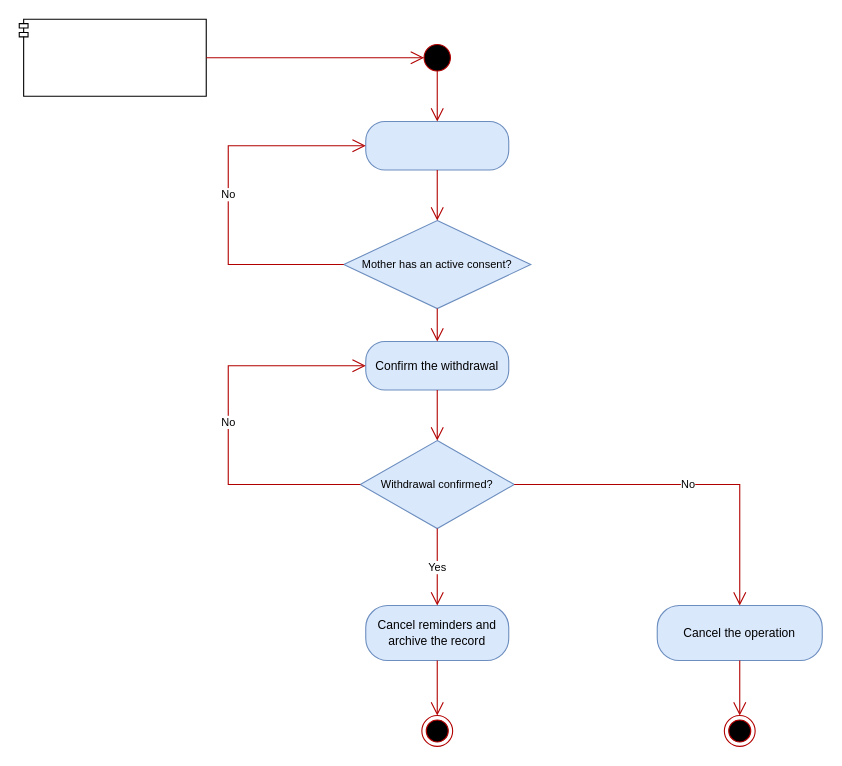
Image size: 842x766. Some labels were removed from this diagram. The centre of each missing label's shape, as x and y in pixels:
"Choose the mother" goes at [437,145].
"Withdraw a consent" goes at [112,57].
